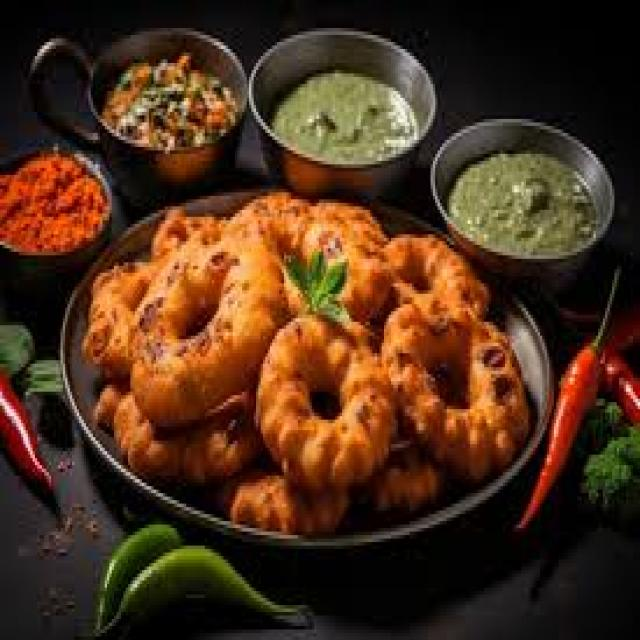MEDU VADA: (83, 188, 530, 529)
